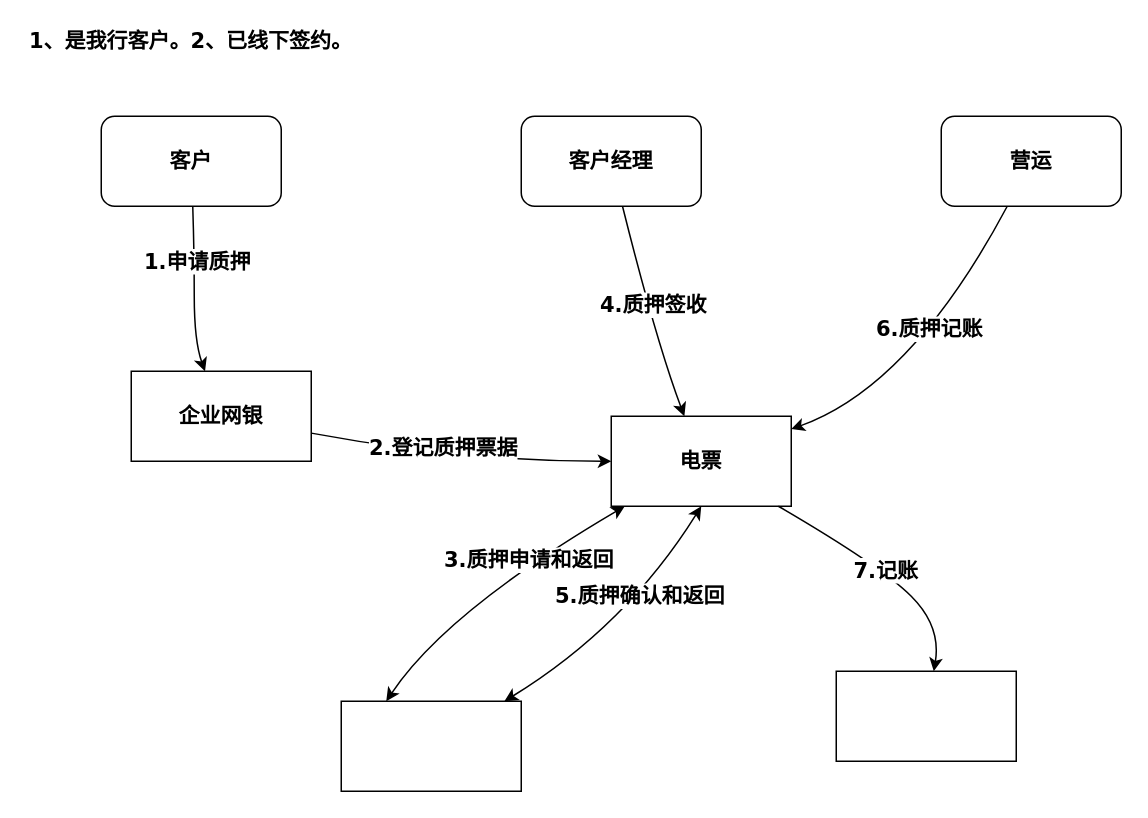
This 1148x818 diagram has some shape labels left out. The centre of each missing label's shape, as x and y in pixels:
ECDS: (x=430, y=745)
核心: (x=925, y=715)
